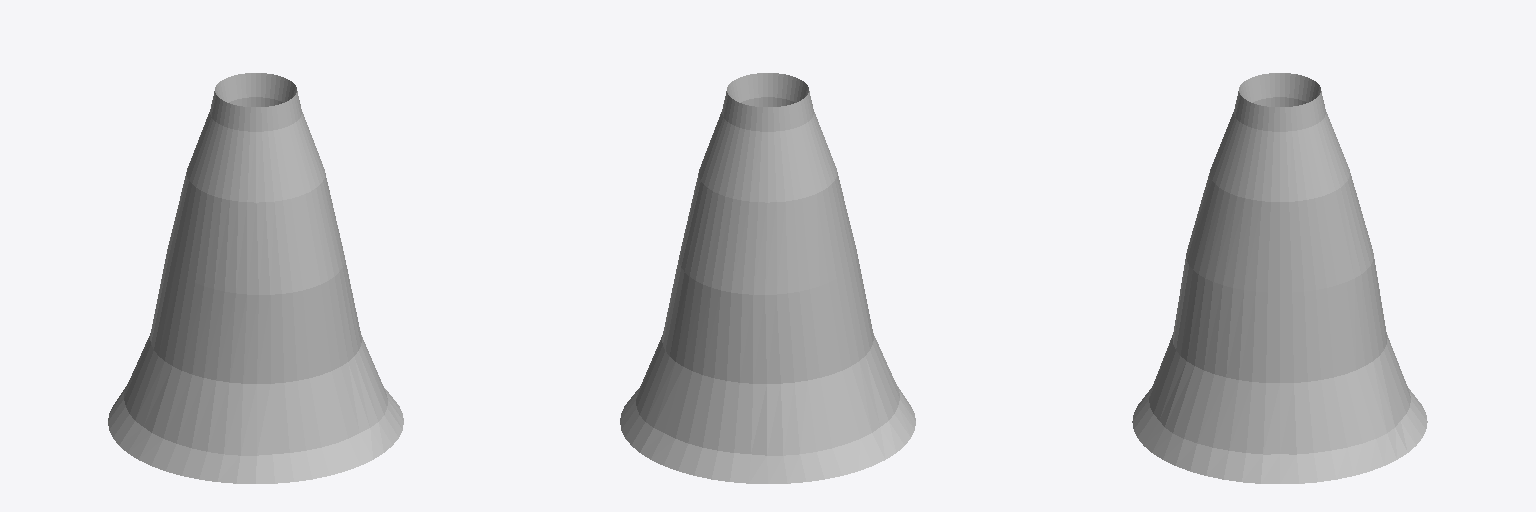
Rendered from lighthouse0.1.obj.
The picture shows the model from 3 angles: view 1: azimuth 30°, elevation 25°; view 2: azimuth 150°, elevation 25°; view 3: azimuth 270°, elevation 25°; orthographic projection.
Parts seen in each view (by area): view 1: Torus.001; view 2: Torus.001; view 3: Torus.001.
Boxes of the visible parts, box(x1,y1,x2,y2) form: Torus.001: box(108, 73, 403, 483); Torus.001: box(620, 73, 915, 483); Torus.001: box(1132, 73, 1427, 483).
Size of the model in its own units: 7.23 by 8.92 by 7.2.